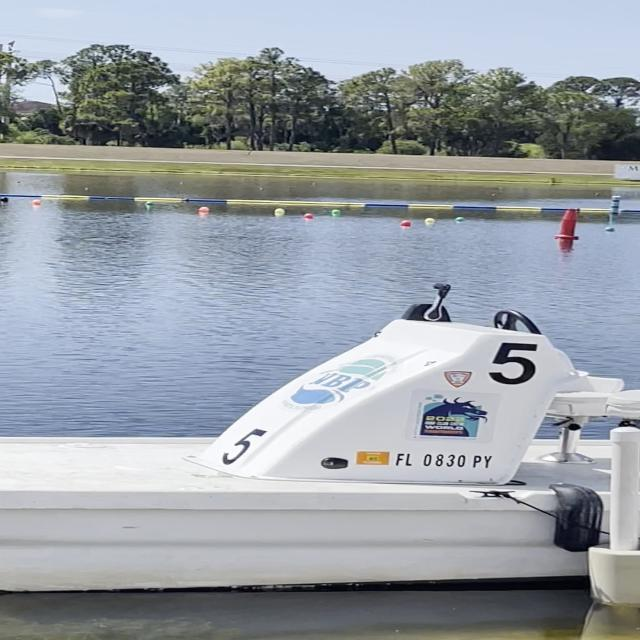buoy: (274, 207, 286, 214), (401, 220, 412, 227), (605, 226, 615, 232), (199, 207, 210, 212), (425, 218, 435, 223), (0, 197, 8, 203), (146, 200, 154, 206), (456, 216, 464, 222), (304, 213, 313, 218), (331, 210, 340, 214), (32, 200, 42, 203)
